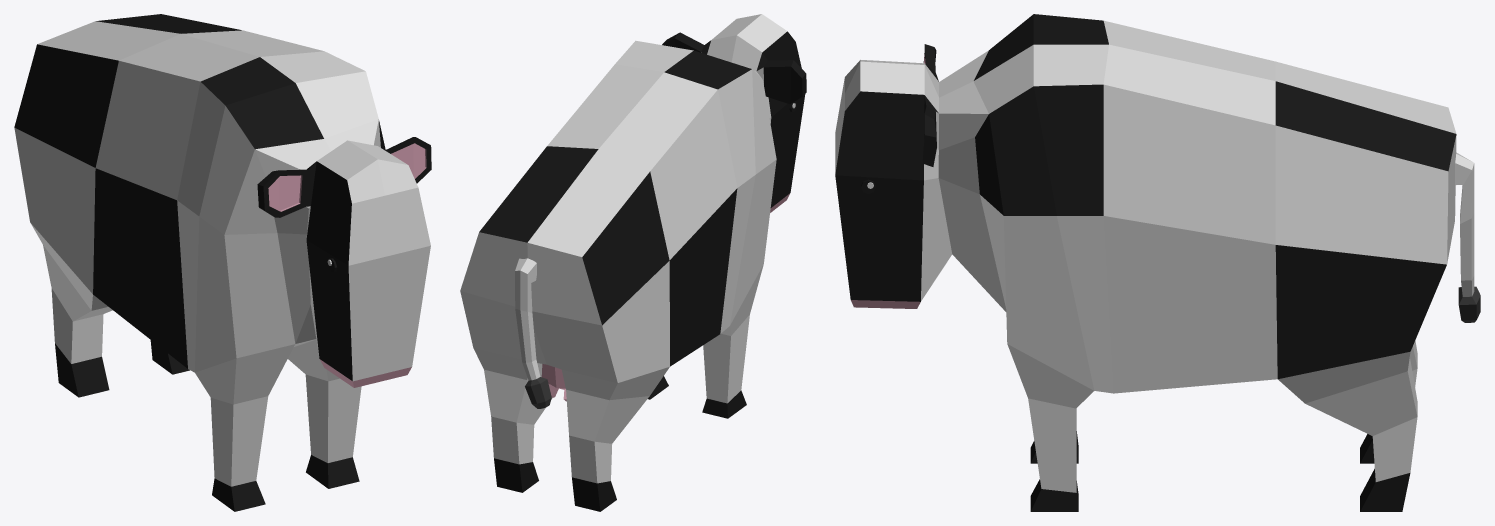
File: Cow_01.fbx
The picture shows the model from 3 angles, left to right: view 1: azimuth 30°, elevation 25°; view 2: azimuth 150°, elevation 25°; view 3: azimuth 270°, elevation 25°; orthographic projection. The views are drawn at different scales.
Parts seen in each view (by area): view 1: Cow_01; view 2: Cow_01; view 3: Cow_01.
Boxes of the visible parts, x1,y1,x2,y2 form: Cow_01: (14, 14, 431, 511); Cow_01: (460, 14, 806, 511); Cow_01: (835, 14, 1480, 511).
Size of the model in its own units: 4.87 by 11.03 by 14.83.
